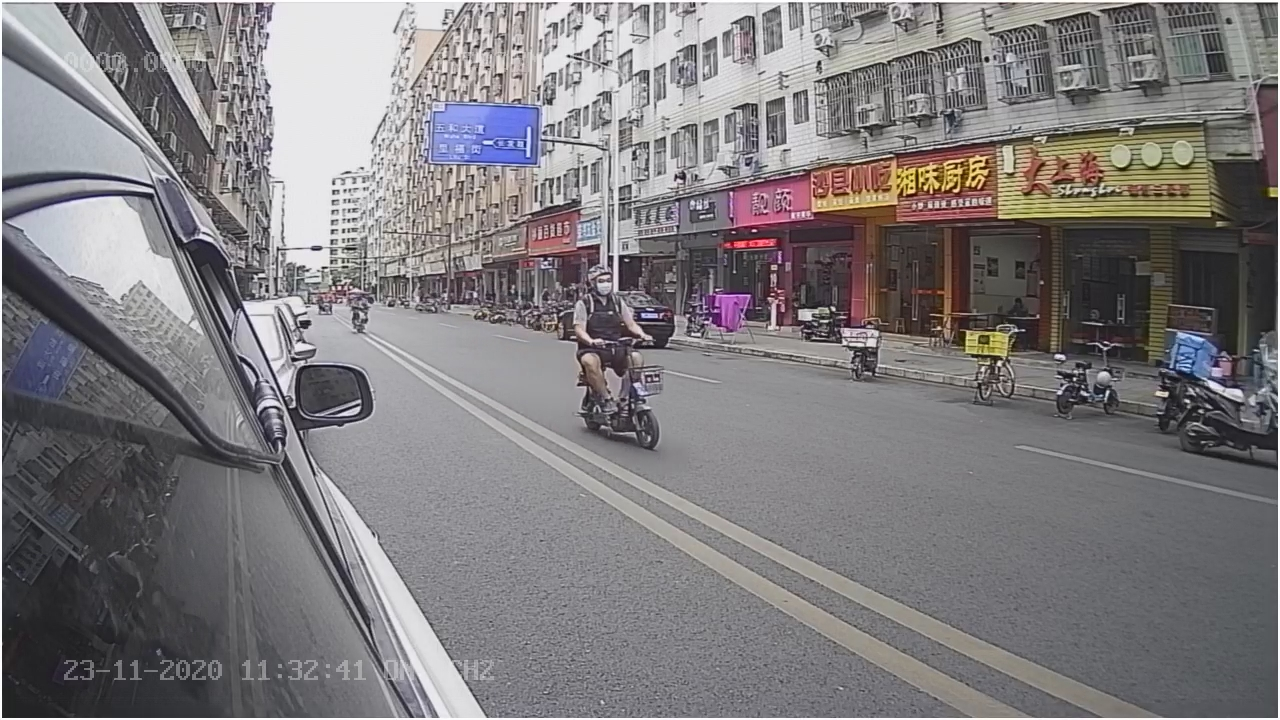person: (567, 257, 653, 351)
